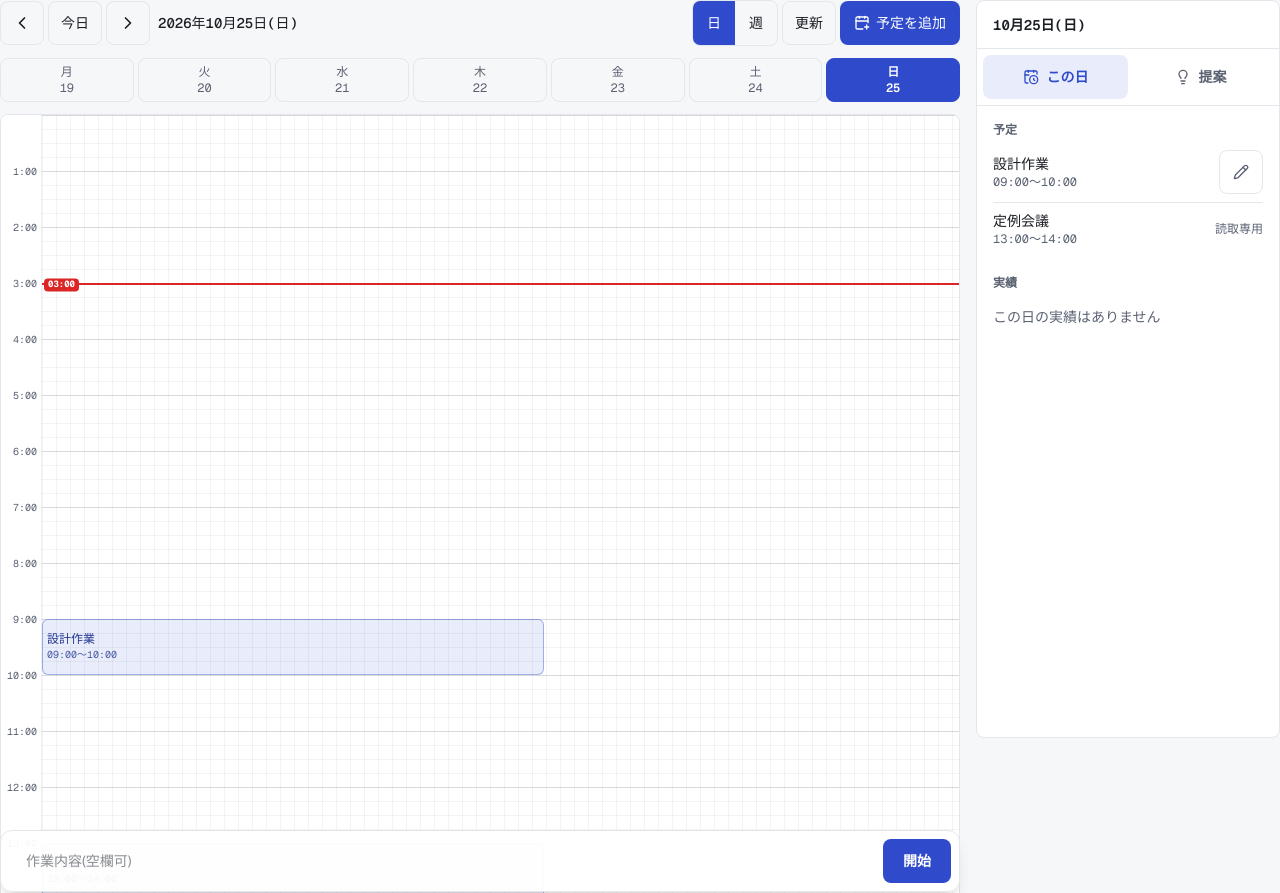
Test: 予定の作成(S1) › S1: 「予定を追加」からパネルを開いて保存すると、UTC ISOでアクションが呼ばれ、パネルが閉じて refresh される
Click the button "予定を追加": (900, 23) top-left (840, 1), bottom-right (960, 45)
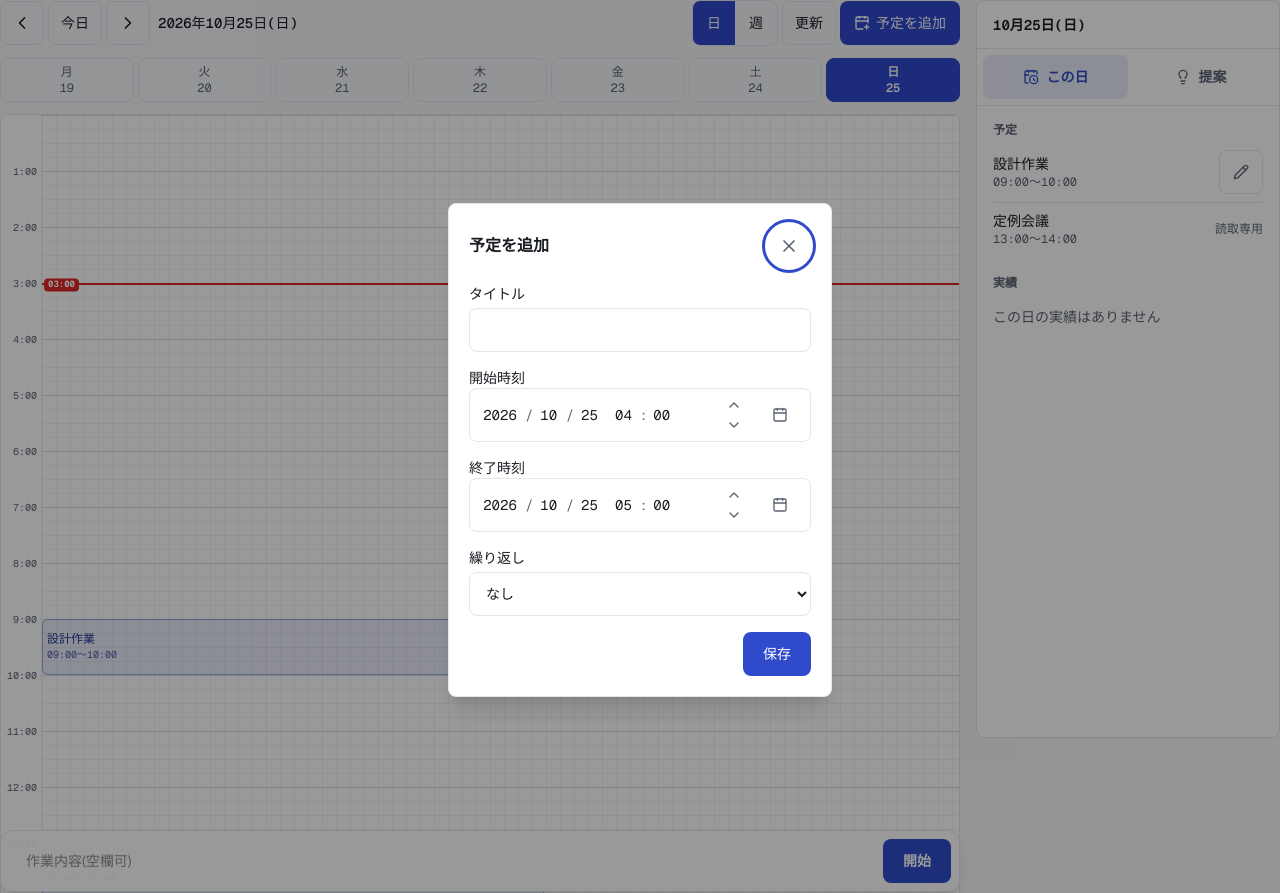
Expected: the dialog is shown, top-left (448, 203), bottom-right (832, 697)
In the field labelled "タイトル": (640, 330) top-left (469, 308), bottom-right (811, 352), type "レビュー対応"
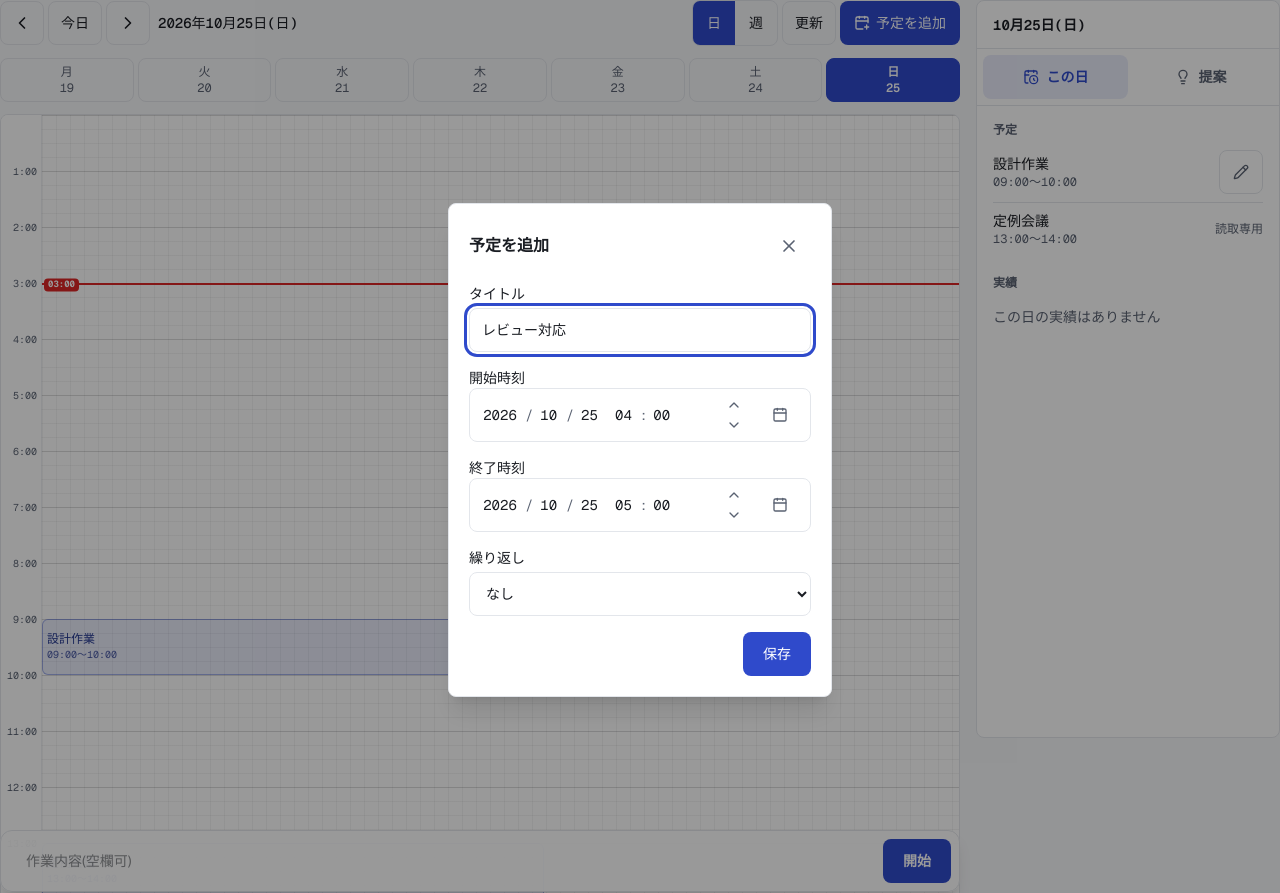
Click the button "保存": (777, 654) top-left (743, 632), bottom-right (811, 676)
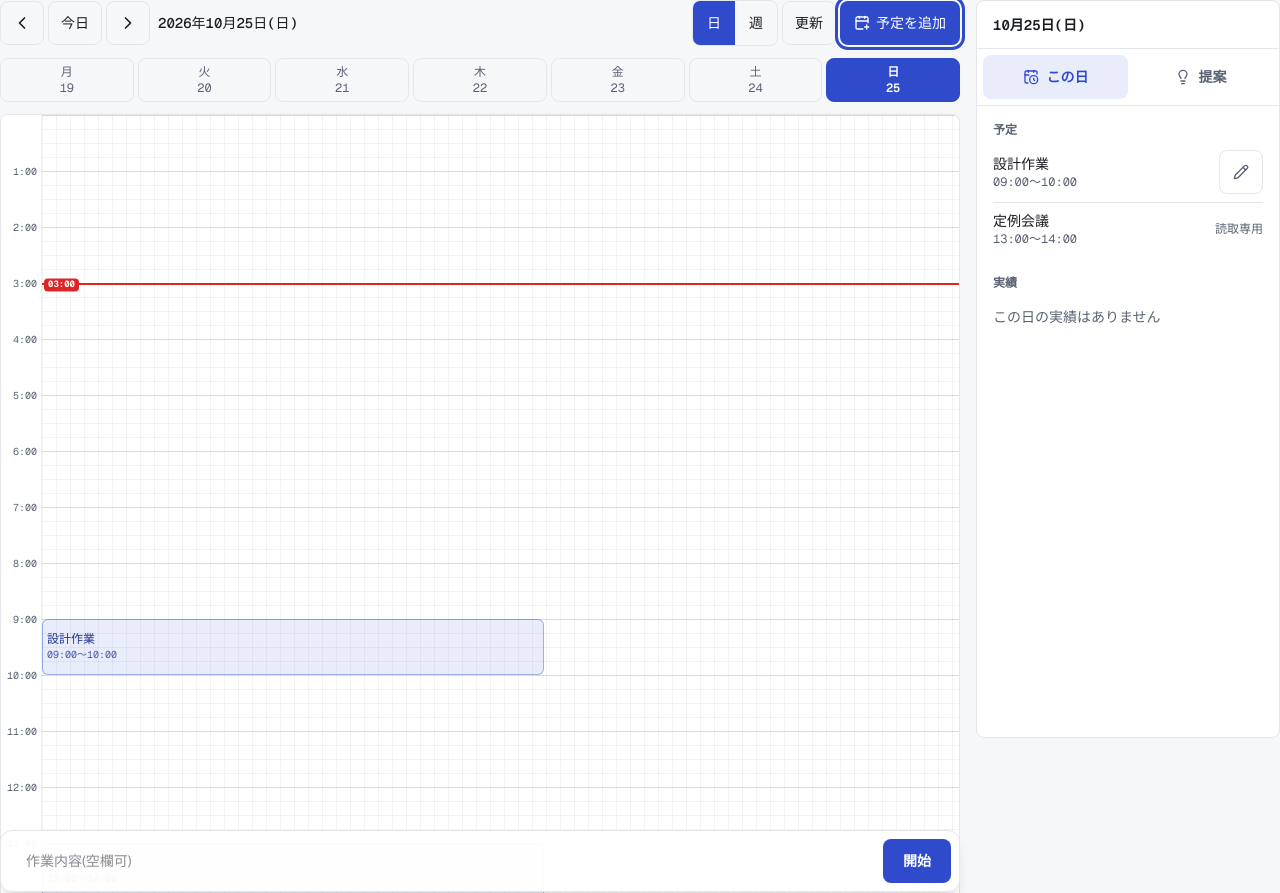
Expected: the dialog is gone
